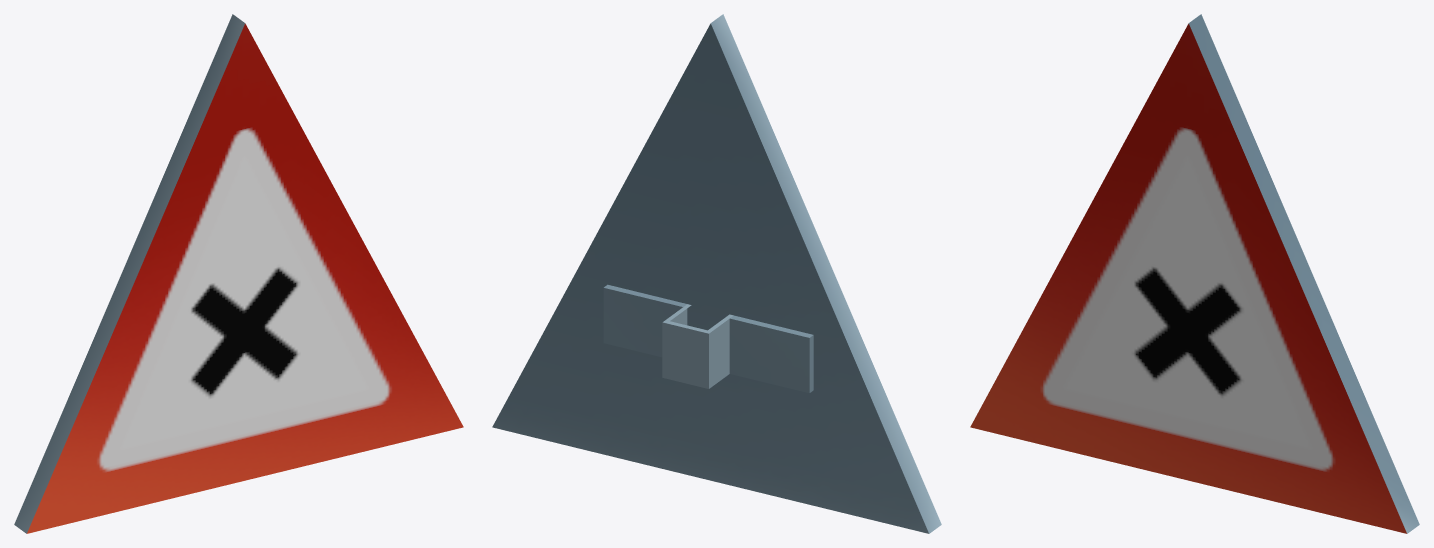
File: Sign1Austrian.fbx
The picture shows the model from 3 angles, left to right: view 1: azimuth 30°, elevation 25°; view 2: azimuth 150°, elevation 25°; view 3: azimuth 330°, elevation 25°; orthographic projection.
Parts seen in each view (by area): view 1: Sign1Austrian; view 2: Sign1Austrian; view 3: Sign1Austrian.
Boxes of the visible parts, x1=… form: Sign1Austrian: x1=14, y1=14, x2=463, y2=533; Sign1Austrian: x1=492, y1=14, x2=941, y2=533; Sign1Austrian: x1=970, y1=14, x2=1419, y2=533.
Bounding box in the file's own units: 1 × 1 × 0.1489.
